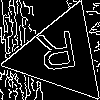R: (35, 30, 82, 81)
